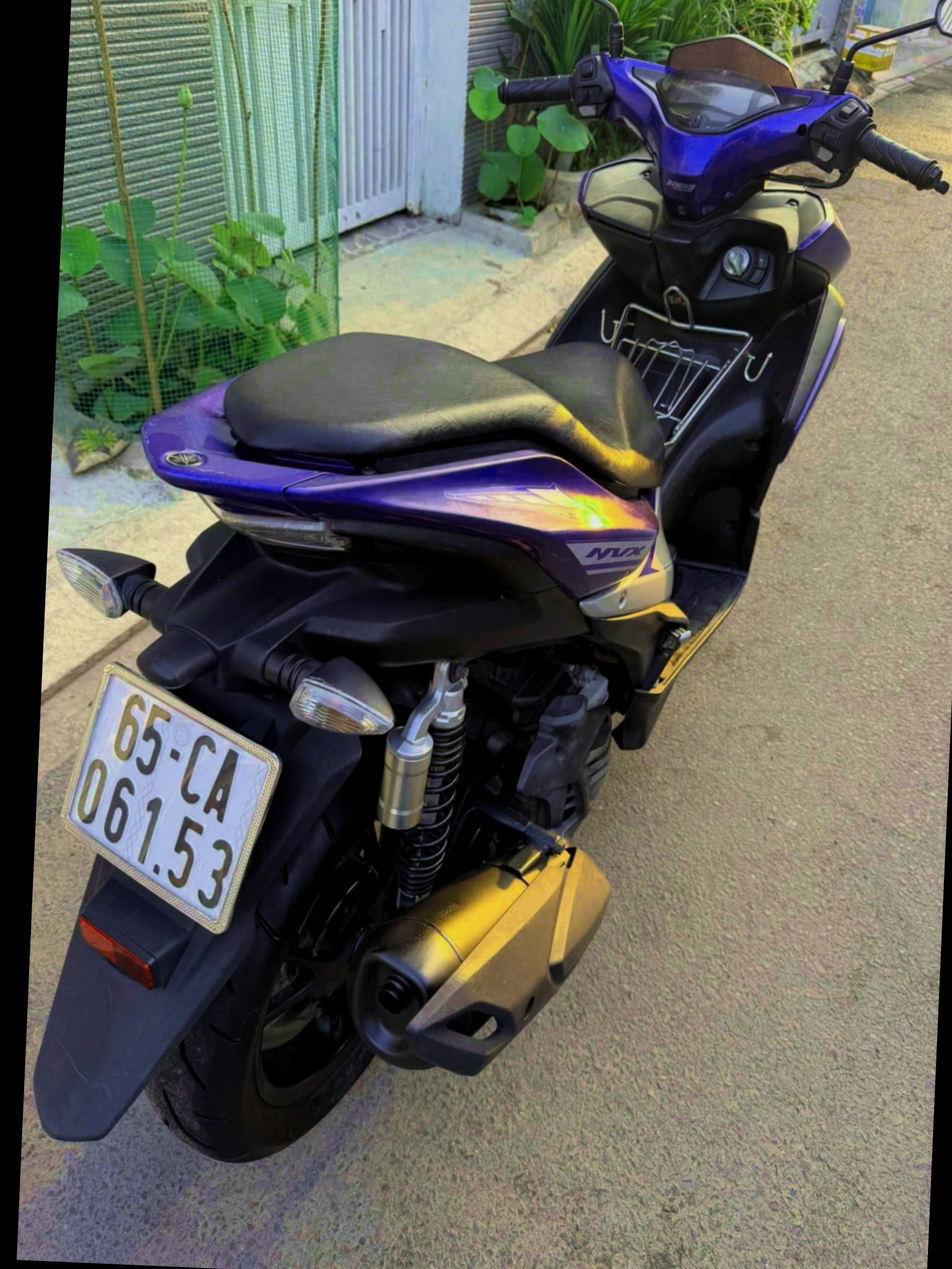Bien-so: (31, 698, 282, 962)
